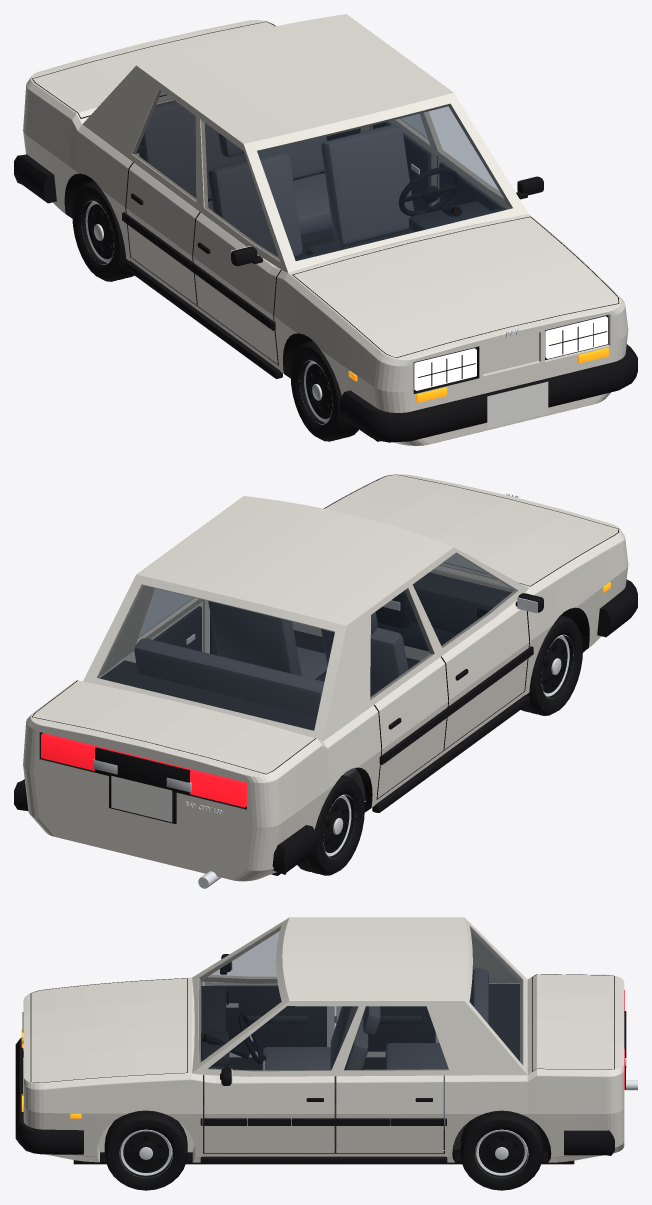
File: bay-city-100.glb
3 renders of one model, top to bottom at view 1: azimuth 30°, elevation 25°; view 2: azimuth 150°, elevation 25°; view 3: azimuth 270°, elevation 25°, orthographic. The views are drawn at different scales.
Visible parts, largest first — view 1: Body, Hood, Interior, Windows, Door_FR, Door_RR, Glass_Door_F_R, Trunk, Lights, Glass_Door_R_R, Tire_FR, Tire_RR (+7 smaller); view 2: Body, Interior, Windows, Hood, Trunk, Door_FR, Door_RR, Glass_Door_F_R, Glass_Door_R_R, Lights, Tire_RR, Tire_FR (+5 smaller); view 3: Body, Hood, Interior, Windows, Door_FL, Door_RL, Trunk, Glass_Door_F_L, Glass_Door_R_L, DoorCard_FR, Tire_FL, Tire_RL (+6 smaller).
Part boxes in pixels (left/top/right/bottom): Body: left=14, top=14, right=637, bottom=445; Hood: left=293, top=217, right=618, bottom=357; Interior: left=136, top=100, right=504, bottom=260; Windows: left=157, top=92, right=511, bottom=260; Door_FR: left=190, top=213, right=281, bottom=364; Door_RR: left=123, top=163, right=200, bottom=305; Glass_Door_F_R: left=201, top=120, right=279, bottom=260; Trunk: left=32, top=22, right=274, bottom=118; Lights: left=348, top=316, right=608, bottom=402; Glass_Door_R_R: left=132, top=89, right=195, bottom=200; Tire_FR: left=290, top=341, right=358, bottom=441; Tire_RR: left=72, top=181, right=134, bottom=281; Body: left=14, top=474, right=637, bottom=881; Interior: left=100, top=572, right=511, bottom=800; Windows: left=97, top=555, right=496, bottom=730; Hood: left=325, top=474, right=618, bottom=586; Trunk: left=33, top=680, right=315, bottom=774; Door_FR: left=441, top=593, right=543, bottom=749; Door_RR: left=374, top=657, right=450, bottom=798; Glass_Door_F_R: left=413, top=553, right=517, bottom=647; Glass_Door_R_R: left=370, top=589, right=433, bottom=699; Lights: left=41, top=582, right=610, bottom=807; Tire_RR: left=297, top=775, right=364, bottom=875; Tire_FR: left=521, top=615, right=582, bottom=715; Body: left=15, top=917, right=626, bottom=1164; Hood: left=31, top=978, right=186, bottom=1082; Interior: left=201, top=968, right=519, bottom=1150; Windows: left=199, top=926, right=522, bottom=1064; Door_FL: left=204, top=1068, right=334, bottom=1152; Door_RL: left=335, top=1075, right=443, bottom=1152; Trunk: left=532, top=974, right=614, bottom=1071; Glass_Door_F_L: left=208, top=1006, right=357, bottom=1070; Glass_Door_R_L: left=344, top=1006, right=448, bottom=1070; DoorCard_FR: left=213, top=985, right=326, bottom=1051; Tire_FL: left=104, top=1110, right=187, bottom=1190; Tire_RL: left=460, top=1110, right=543, bottom=1190.
Bounding box in the file's own units: 2.03 × 1.44 × 4.35.
